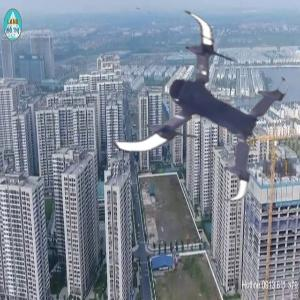drone: (110, 15, 288, 193)
